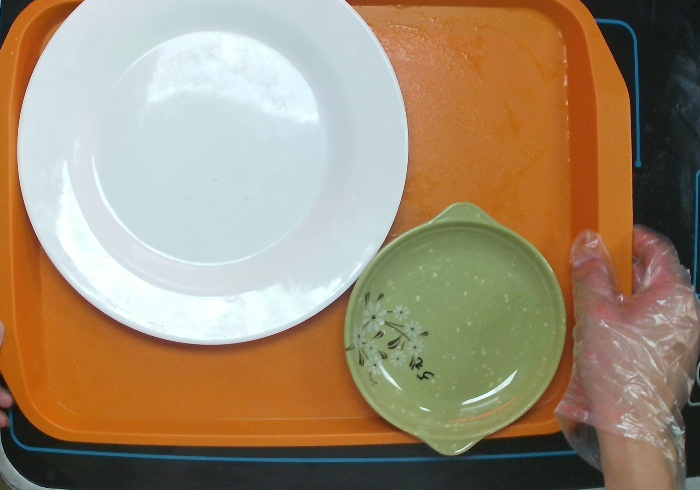NLDX-Da_Yuan_Pan: (9, 1, 413, 352)
NLDX-Lv_Hua_Shuang_Er_Die: (339, 195, 573, 465)
